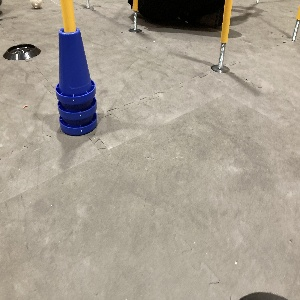Blue_3: (52, 28, 98, 133)
